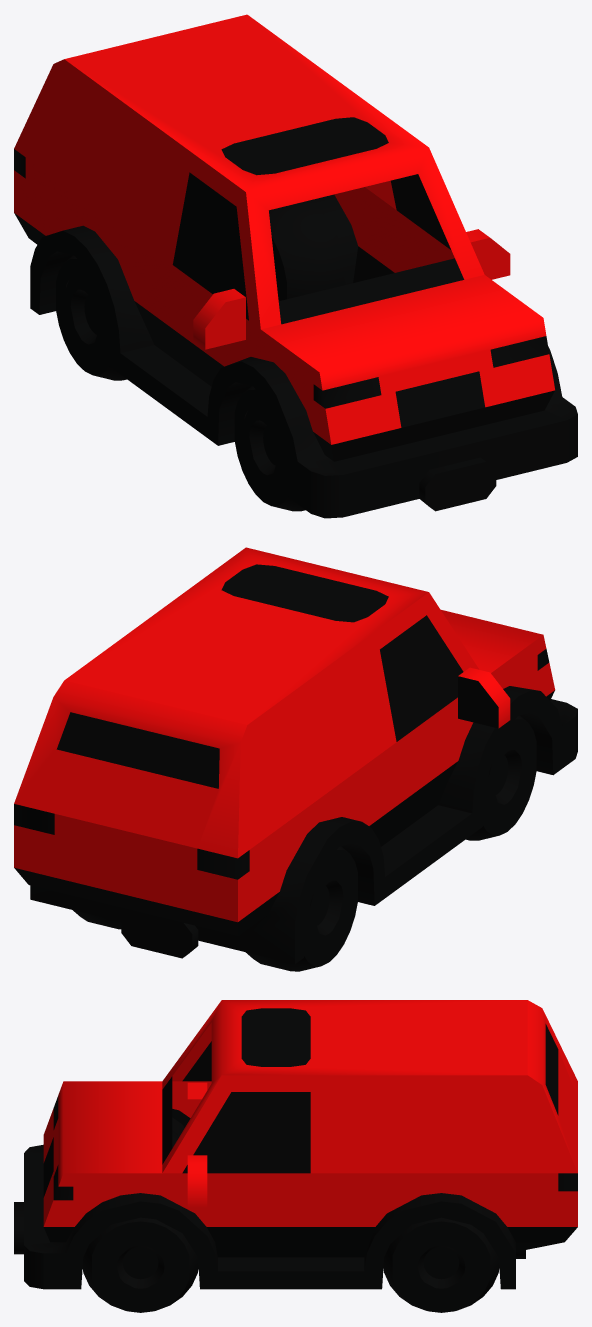
File: suv-luxury.glb
The picture shows the model from 3 angles, top to bottom: view 1: azimuth 30°, elevation 25°; view 2: azimuth 150°, elevation 25°; view 3: azimuth 270°, elevation 25°; orthographic projection. The views are drawn at different scales.
Parts seen in each view (by area): view 1: body, wheel-back-left, wheel-back-right, wheel-front-right; view 2: body, wheel-back-right, wheel-front-right; view 3: body, wheel-front-left, wheel-back-left.
Part boxes in pixels (x1,y1,x2,y2): body: [14, 14, 577, 518]; wheel-back-left: [269, 200, 345, 300]; wheel-back-right: [56, 255, 126, 380]; wheel-front-right: [234, 386, 305, 511]; body: [14, 547, 577, 963]; wheel-back-right: [246, 846, 357, 971]; wheel-front-right: [466, 715, 536, 840]; body: [14, 1000, 577, 1289]; wheel-front-left: [82, 1217, 198, 1312]; wheel-back-left: [383, 1217, 499, 1312].
Size of the model in its own units: 1.5 by 1.3 by 2.85.
1 material, 1 textured.
